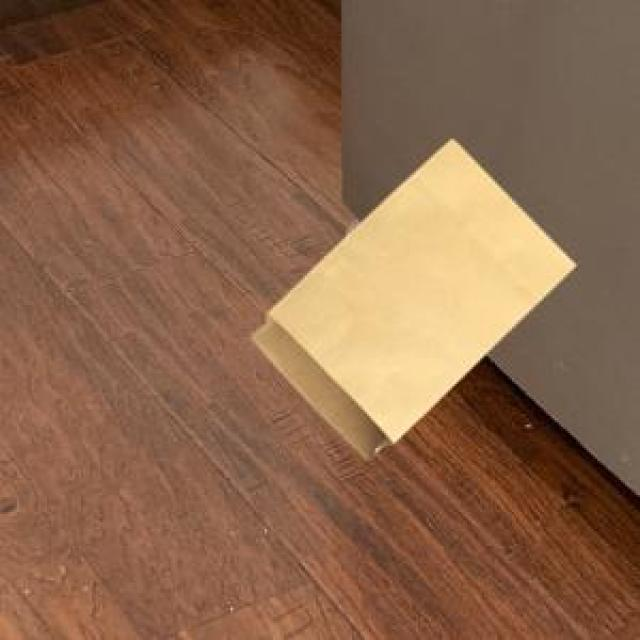paper: (248, 137, 572, 454)
